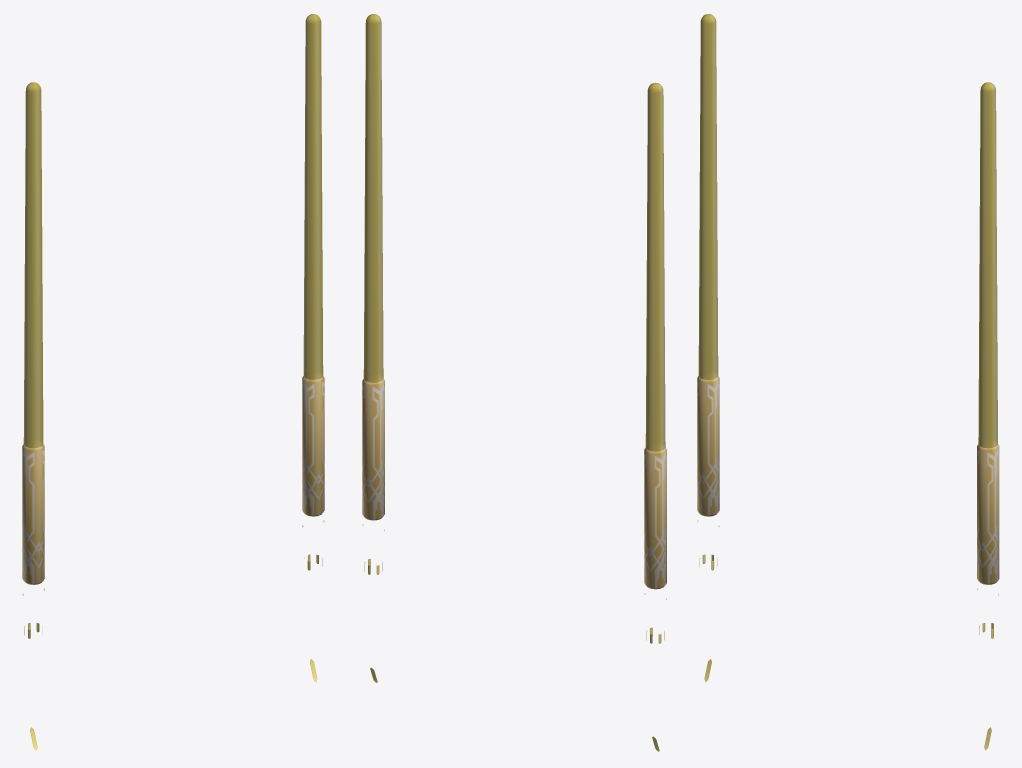
The model's file is Weapon 5.glb.
3 views of the same model, side by side, from view 1: azimuth 30°, elevation 25°; view 2: azimuth 150°, elevation 25°; view 3: azimuth 330°, elevation 25° (orthographic).
Visible parts, largest first — view 1: playerboy_weapon40_042_000_LOD0; view 2: playerboy_weapon40_042_000_LOD0; view 3: playerboy_weapon40_042_000_LOD0.
Part boxes in pixels (bbox=[...]): playerboy_weapon40_042_000_LOD0: bbox=[22, 14, 324, 750]; playerboy_weapon40_042_000_LOD0: bbox=[362, 14, 666, 751]; playerboy_weapon40_042_000_LOD0: bbox=[697, 14, 999, 750].
Size of the model in its own units: 0.5495 by 1.14 by 0.0564.
1 material, 1 textured.
